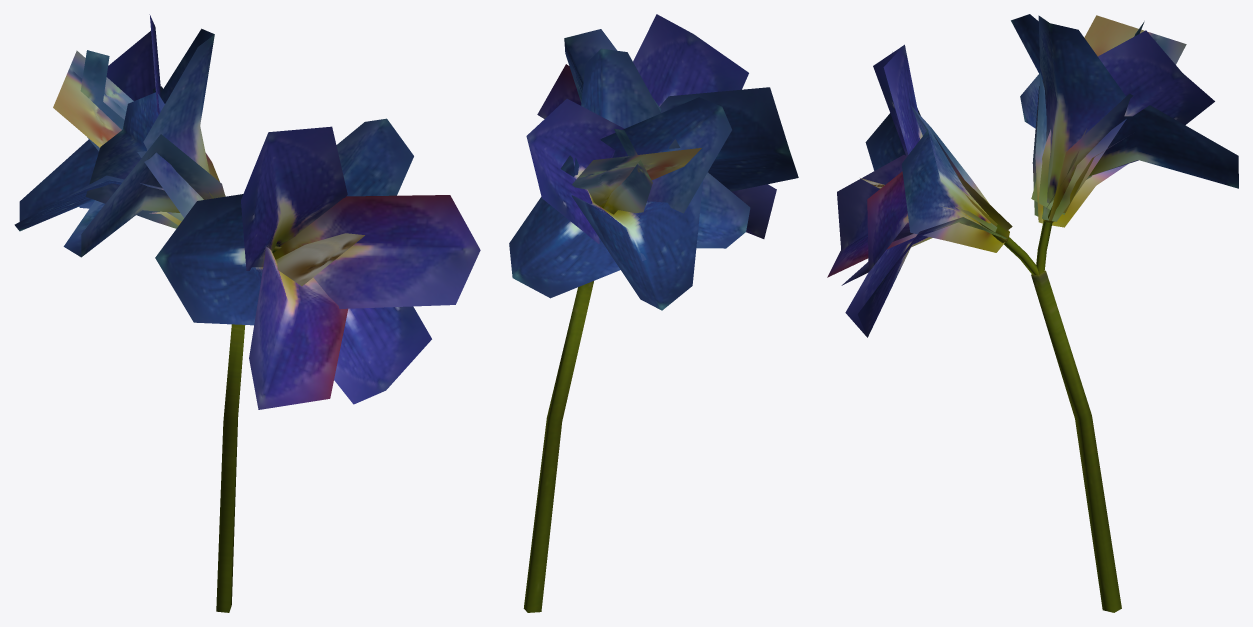
Rendered from Amaryllis_baby_short_lightblue.glb.
3 views of the same model, side by side, from view 1: azimuth 30°, elevation 25°; view 2: azimuth 150°, elevation 25°; view 3: azimuth 270°, elevation 25° (orthographic). The views are drawn at different scales.
Visible parts, largest first — view 1: baby; view 2: baby; view 3: baby.
Part boxes in pixels (x1=…): baby: x1=14, y1=14, x2=480, y2=612; baby: x1=509, y1=14, x2=798, y2=612; baby: x1=827, y1=14, x2=1238, y2=612.
Bounding box in the file's own units: 0.6819 × 1.24 × 0.8184.
Materials: 1 (1 with a texture image).
